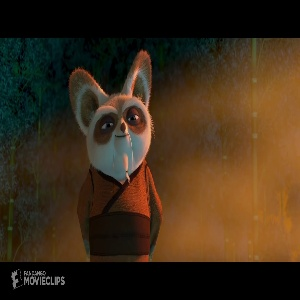shifu: (63, 47, 165, 262)
